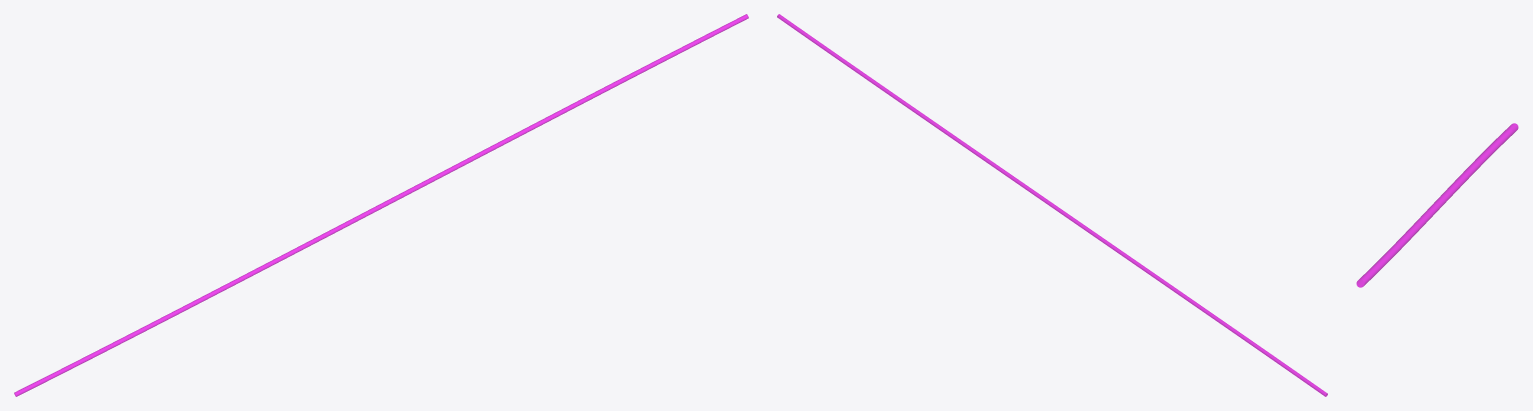
Rendered from Event_15818458_electron_0.fbx.
3 renders of one model, left to right at view 1: azimuth 30°, elevation 25°; view 2: azimuth 150°, elevation 25°; view 3: azimuth 270°, elevation 25°, orthographic. The views are drawn at different scales.
Visible parts, largest first — view 1: Model; view 2: Model; view 3: Model.
Part boxes in pixels (left/top/right/bottom): Model: left=14, top=14, right=748, bottom=396; Model: left=777, top=14, right=1327, bottom=396; Model: left=1356, top=123, right=1518, bottom=287.
Size of the model in its own units: 6.57 by 2.26 by 0.7847.
